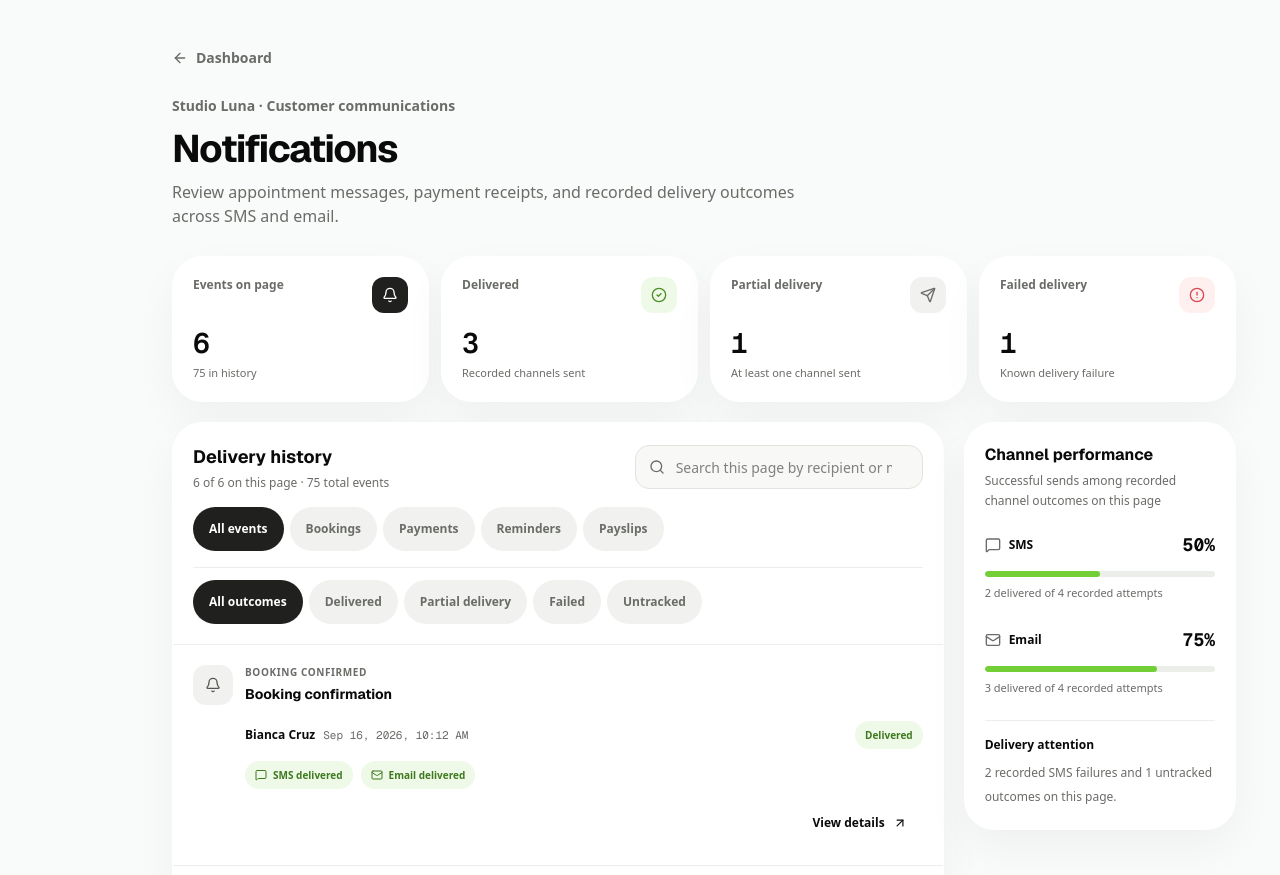
Test: Notifications preview › combines event/outcome/search filters and resets all of them
This screenshot has width=1280, height=875.
Click the button "Payments" at (429, 529), box [383,507,474,551]
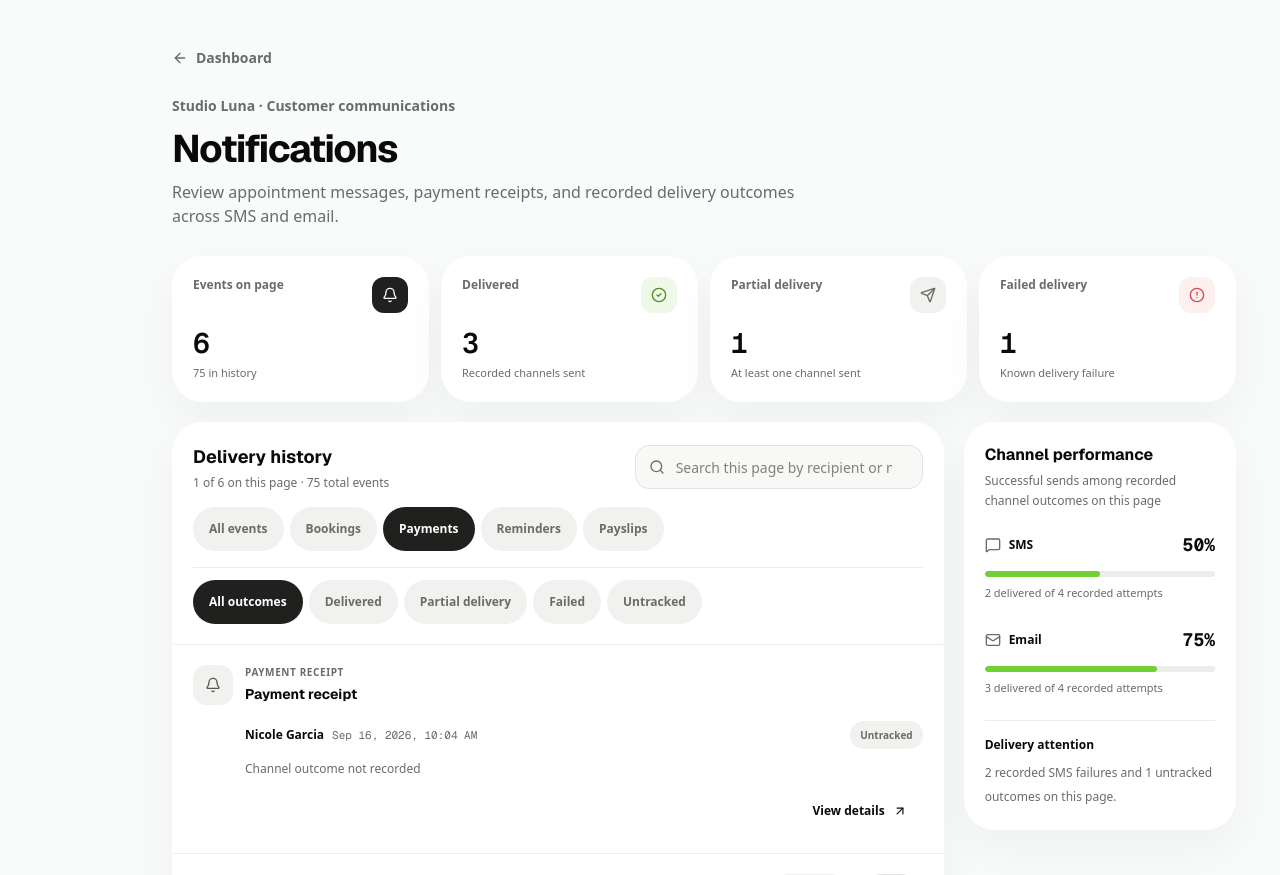
Click the button "Failed" at (567, 602), box [533,580,601,624]
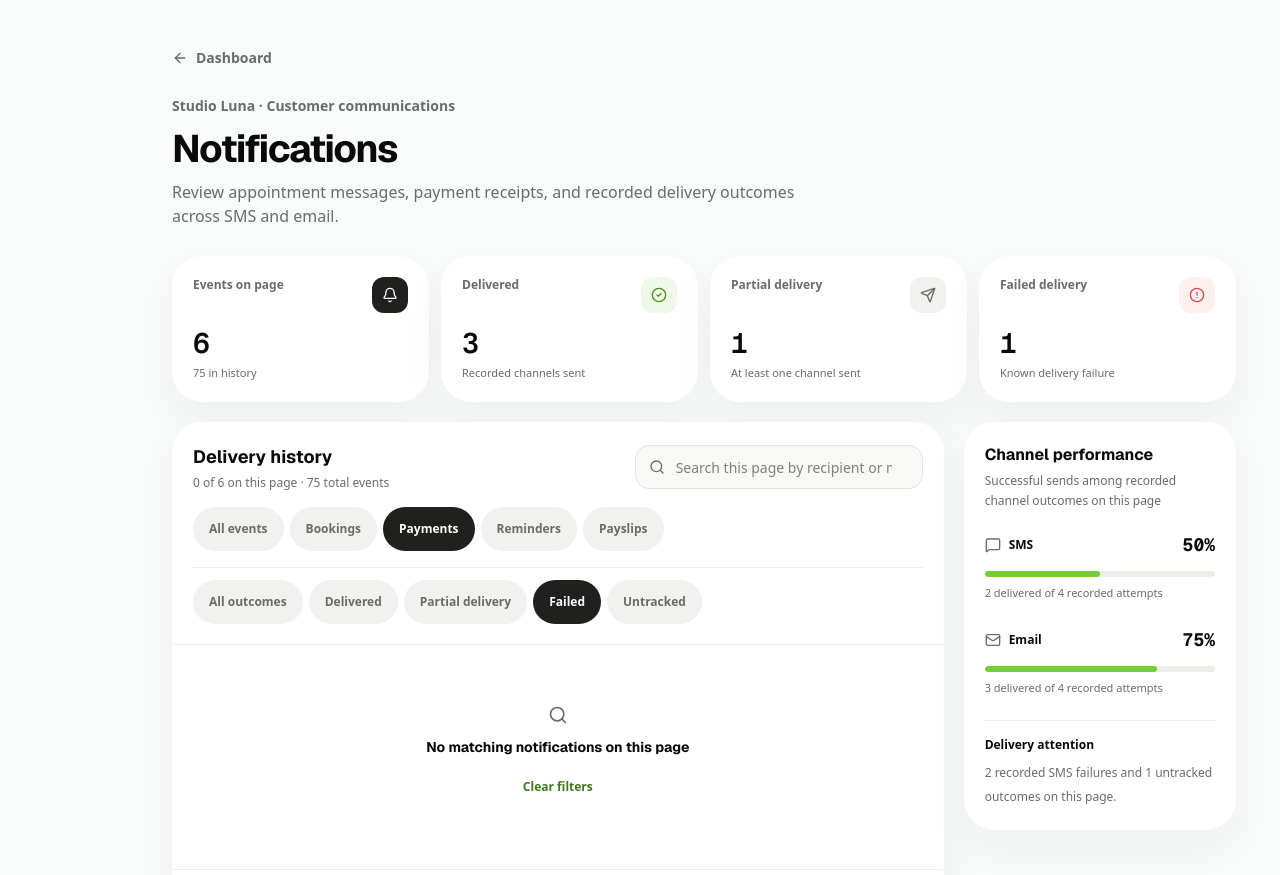
Check: the heading "No matching notifications on this page" is shown, box [426,737,690,757]
Click the button "Clear filters" at (558, 787), box [507,765,609,809]
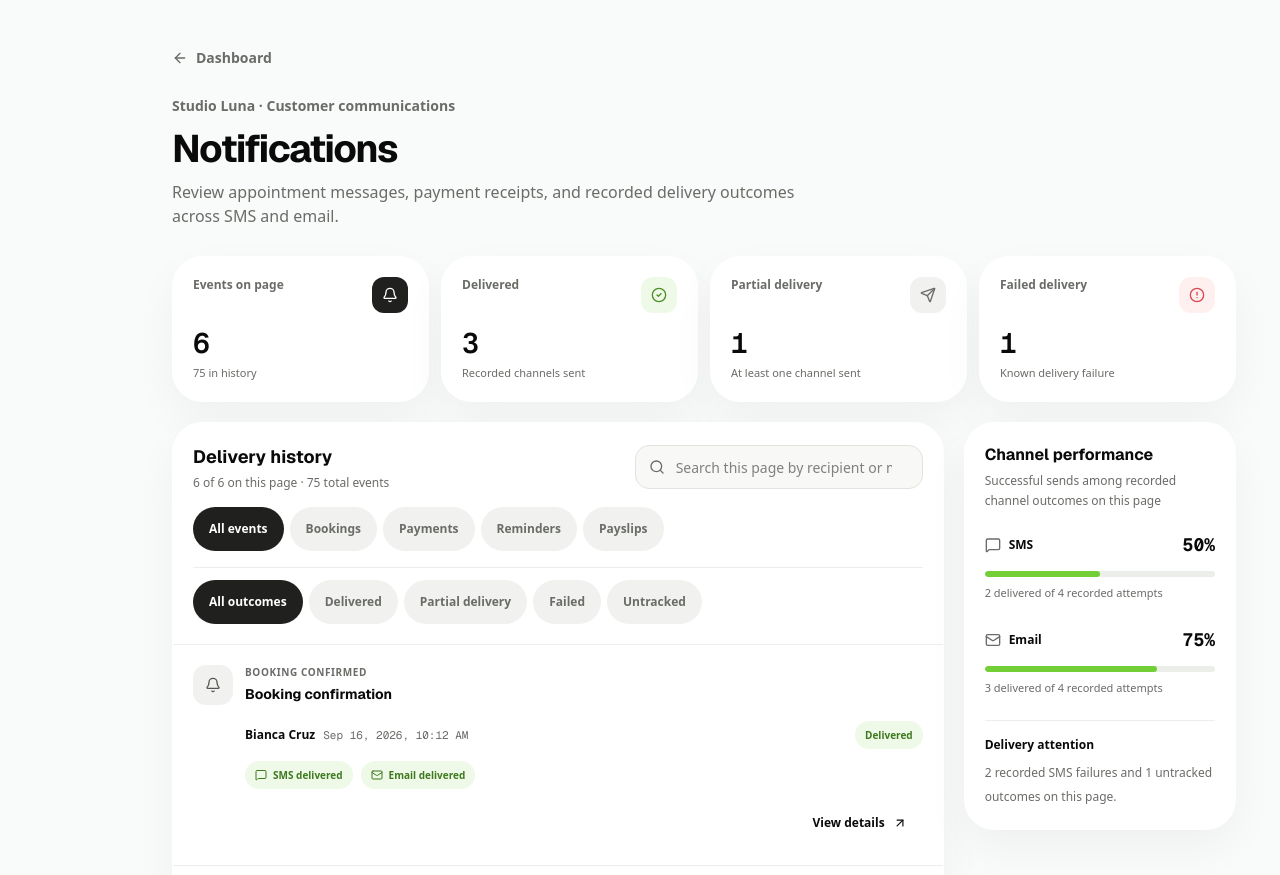
Check: the message shows "6 of 6 on this page", box [193,475,389,491]
